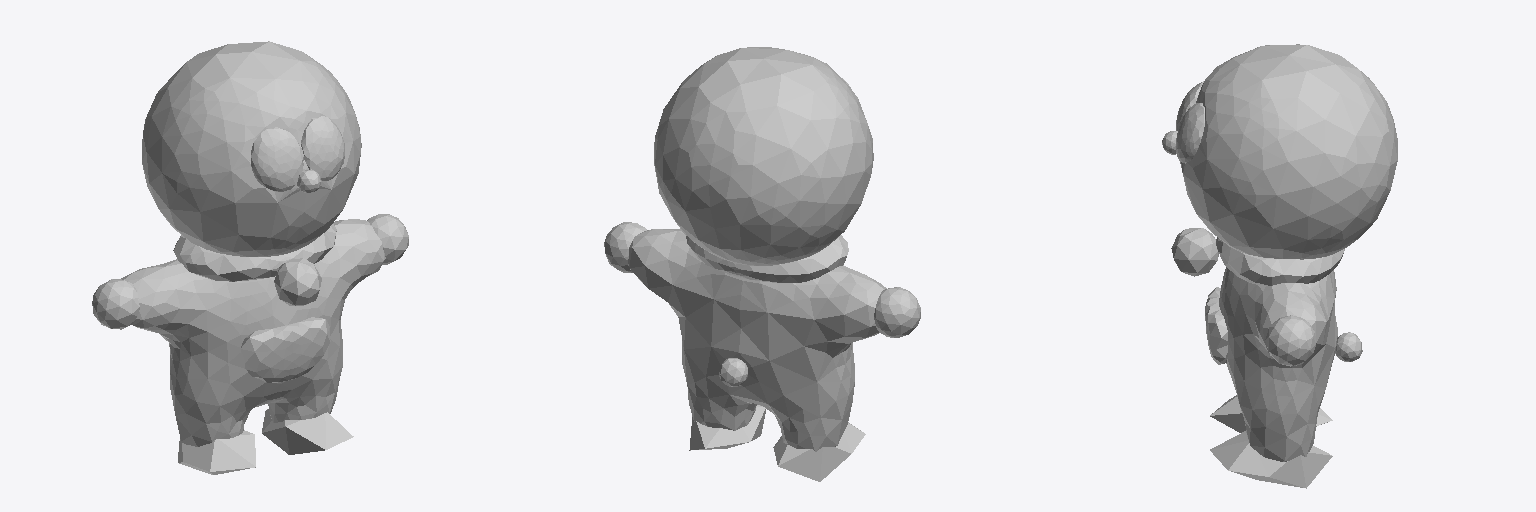
Rendered from doraemon.obj.
3 views of the same model, side by side, from view 1: azimuth 30°, elevation 25°; view 2: azimuth 150°, elevation 25°; view 3: azimuth 270°, elevation 25° (orthographic).
Size of the model in its own units: 3.8 by 4.69 by 2.5.